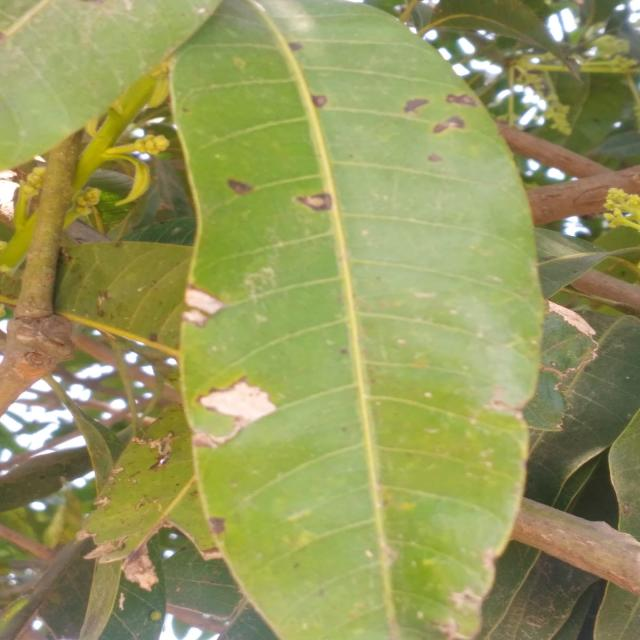Anthracnose: (292, 190, 334, 211), (224, 175, 256, 197), (425, 119, 469, 135), (441, 90, 475, 110), (398, 94, 430, 115), (306, 90, 331, 110), (421, 151, 448, 165), (285, 38, 309, 53)
Powdery Mildew: (212, 369, 289, 433), (176, 282, 240, 332)
